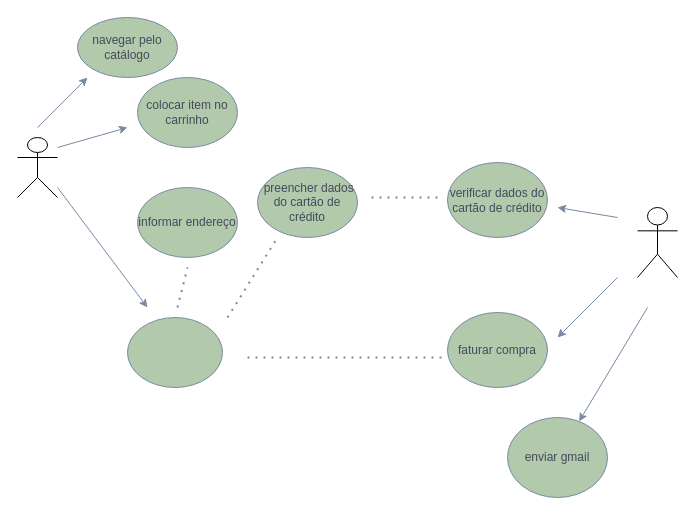
The diagram is 696 pixels wide and 515 high, and some of its shapes have lost their labels. Each missing label, with the centre of its shape:
Cliente: the point at 37,167
finalizar compra: the point at 174,352
Sistema: the point at 657,242
